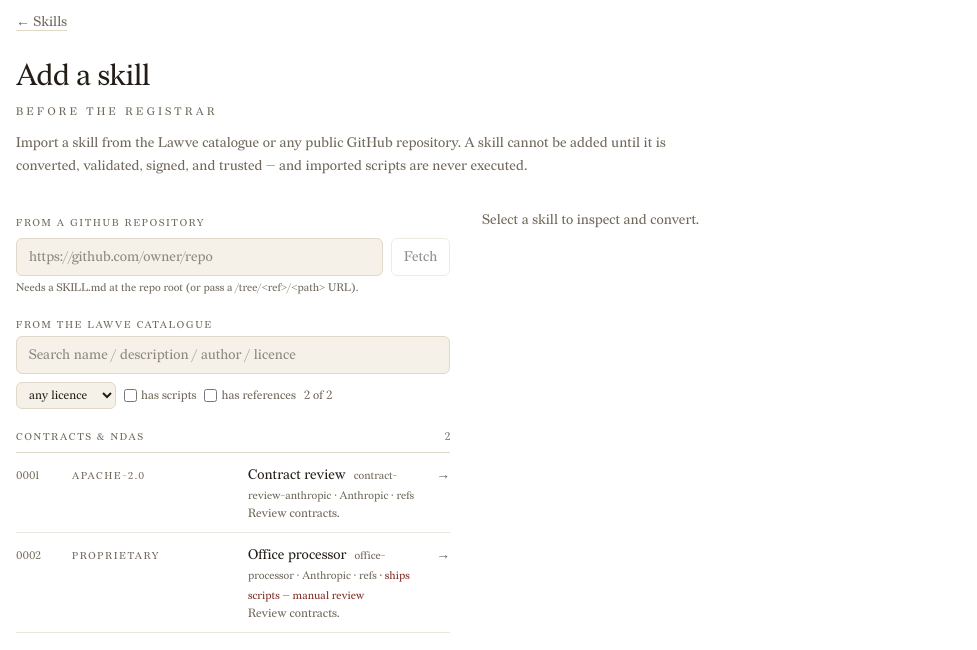
Test: LawveImport › opens a scripted skill and shows the non-execution flag
Click the button with test id "lawve-card-office-processor": (233, 583) left=16, top=533, right=450, bottom=633
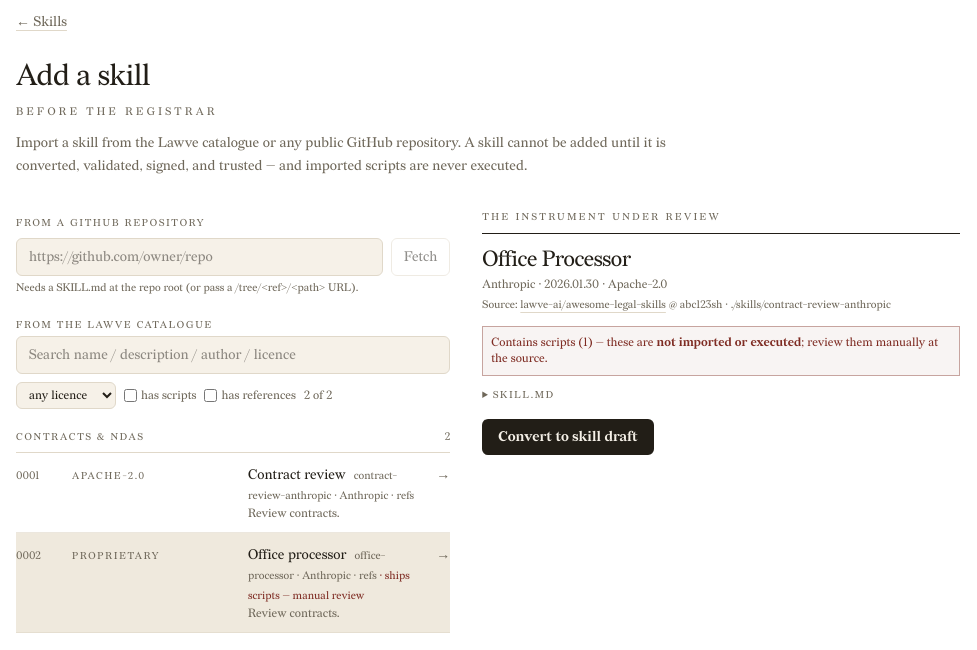
Now the element with test id "lawve-detail" is shown, box left=482, top=210, right=960, bottom=454
Now the element with test id "lawve-script-flag" shows "not imported or executed", box left=656, top=334, right=801, bottom=350
